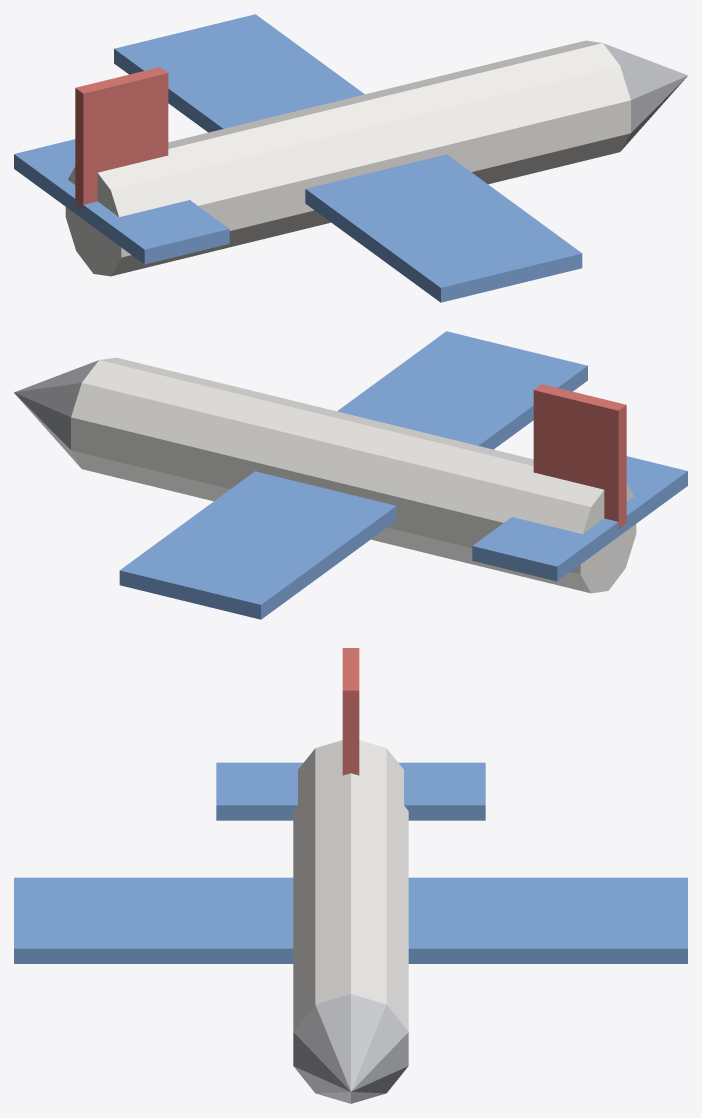
Rendered from avion.glb.
3 views of the same model, one above another, from view 1: azimuth 30°, elevation 25°; view 2: azimuth 150°, elevation 25°; view 3: azimuth 270°, elevation 25° (orthographic). The views are drawn at different scales.
Parts seen in each view (by area): view 1: avion; view 2: avion; view 3: avion.
Boxes of the visible parts, x1,y1,x2,y2 form: avion: (14, 14, 687, 302); avion: (14, 331, 687, 619); avion: (14, 648, 687, 1103).
Size of the model in its own units: 2.15 by 0.63 by 2.
